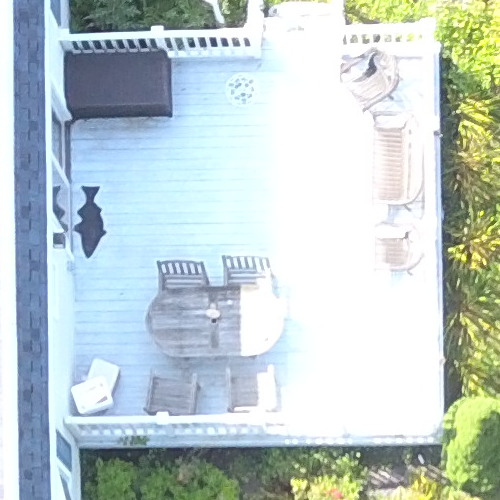porch: (51, 1, 458, 459)
